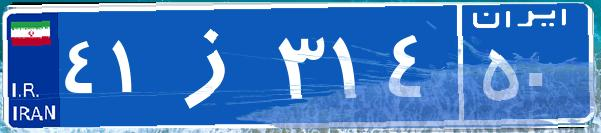0: (525, 38, 570, 115)
1: (330, 28, 385, 110), (110, 28, 158, 105)
3: (273, 28, 330, 110)
4: (385, 28, 445, 110), (57, 26, 110, 107)
5: (475, 38, 525, 113)
ز: (158, 15, 273, 115)
